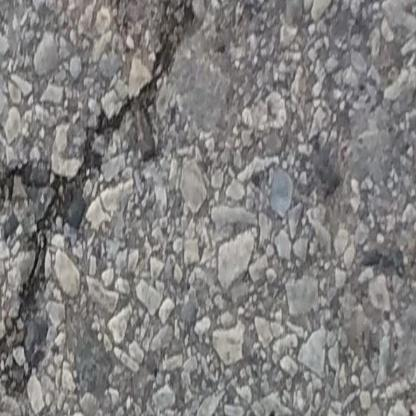Cracks: (0, 0, 216, 414)
